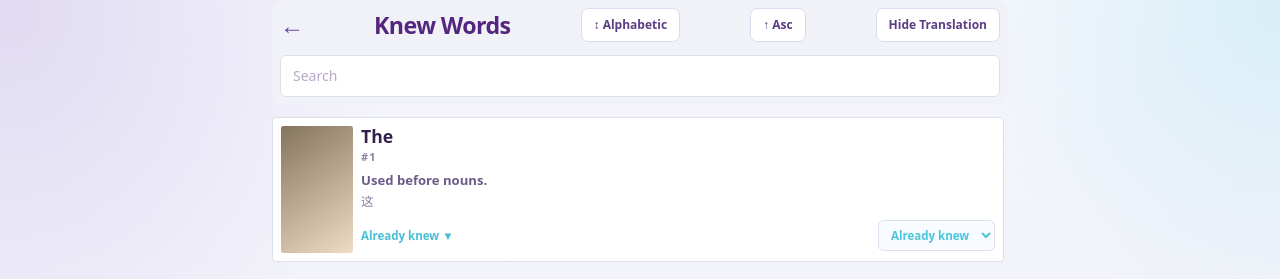
Scenario: KnowledgeListPage › toggles translation visibility while keeping the definition visible
Check: the text "Used before nouns." is shown, box [361,171,487,189]
Check: the text "这" is shown, box [361,193,374,210]
What coordinates should you click on to do the following:
click the button with test id "knowledge-list-translation-toggle"
I would click on:
 (938, 25)
Its box is [876,8,1000,42].
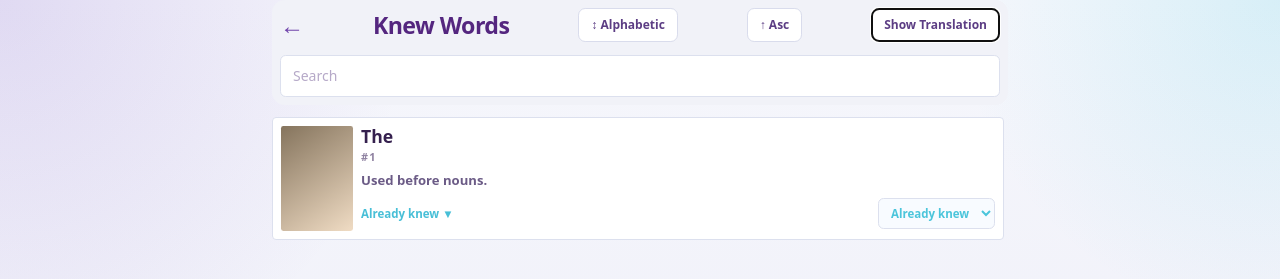
Check: the text "Used before nouns." is shown, box [361,171,487,189]
Check: the text "这" is gone
